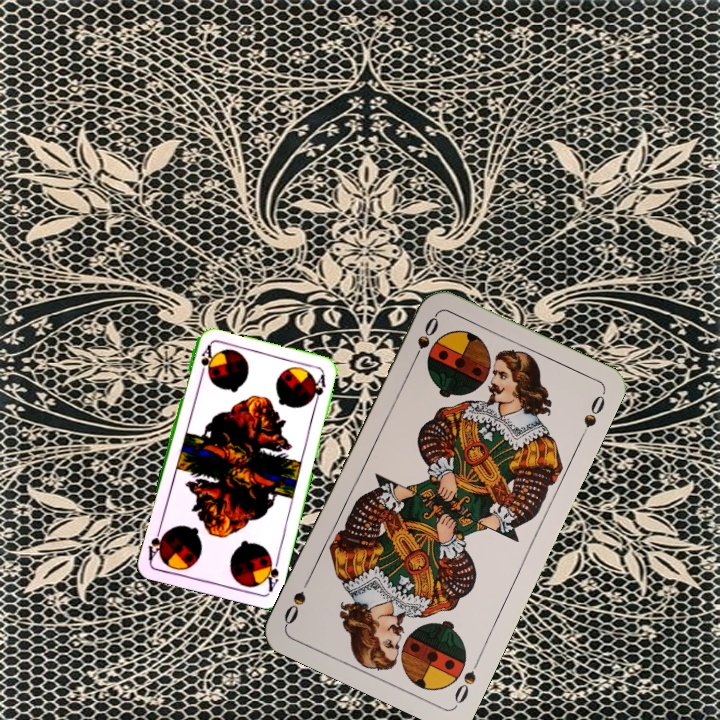SA: (260, 552, 282, 594), (195, 341, 214, 381)
SO: (408, 311, 442, 367), (450, 652, 483, 707)
